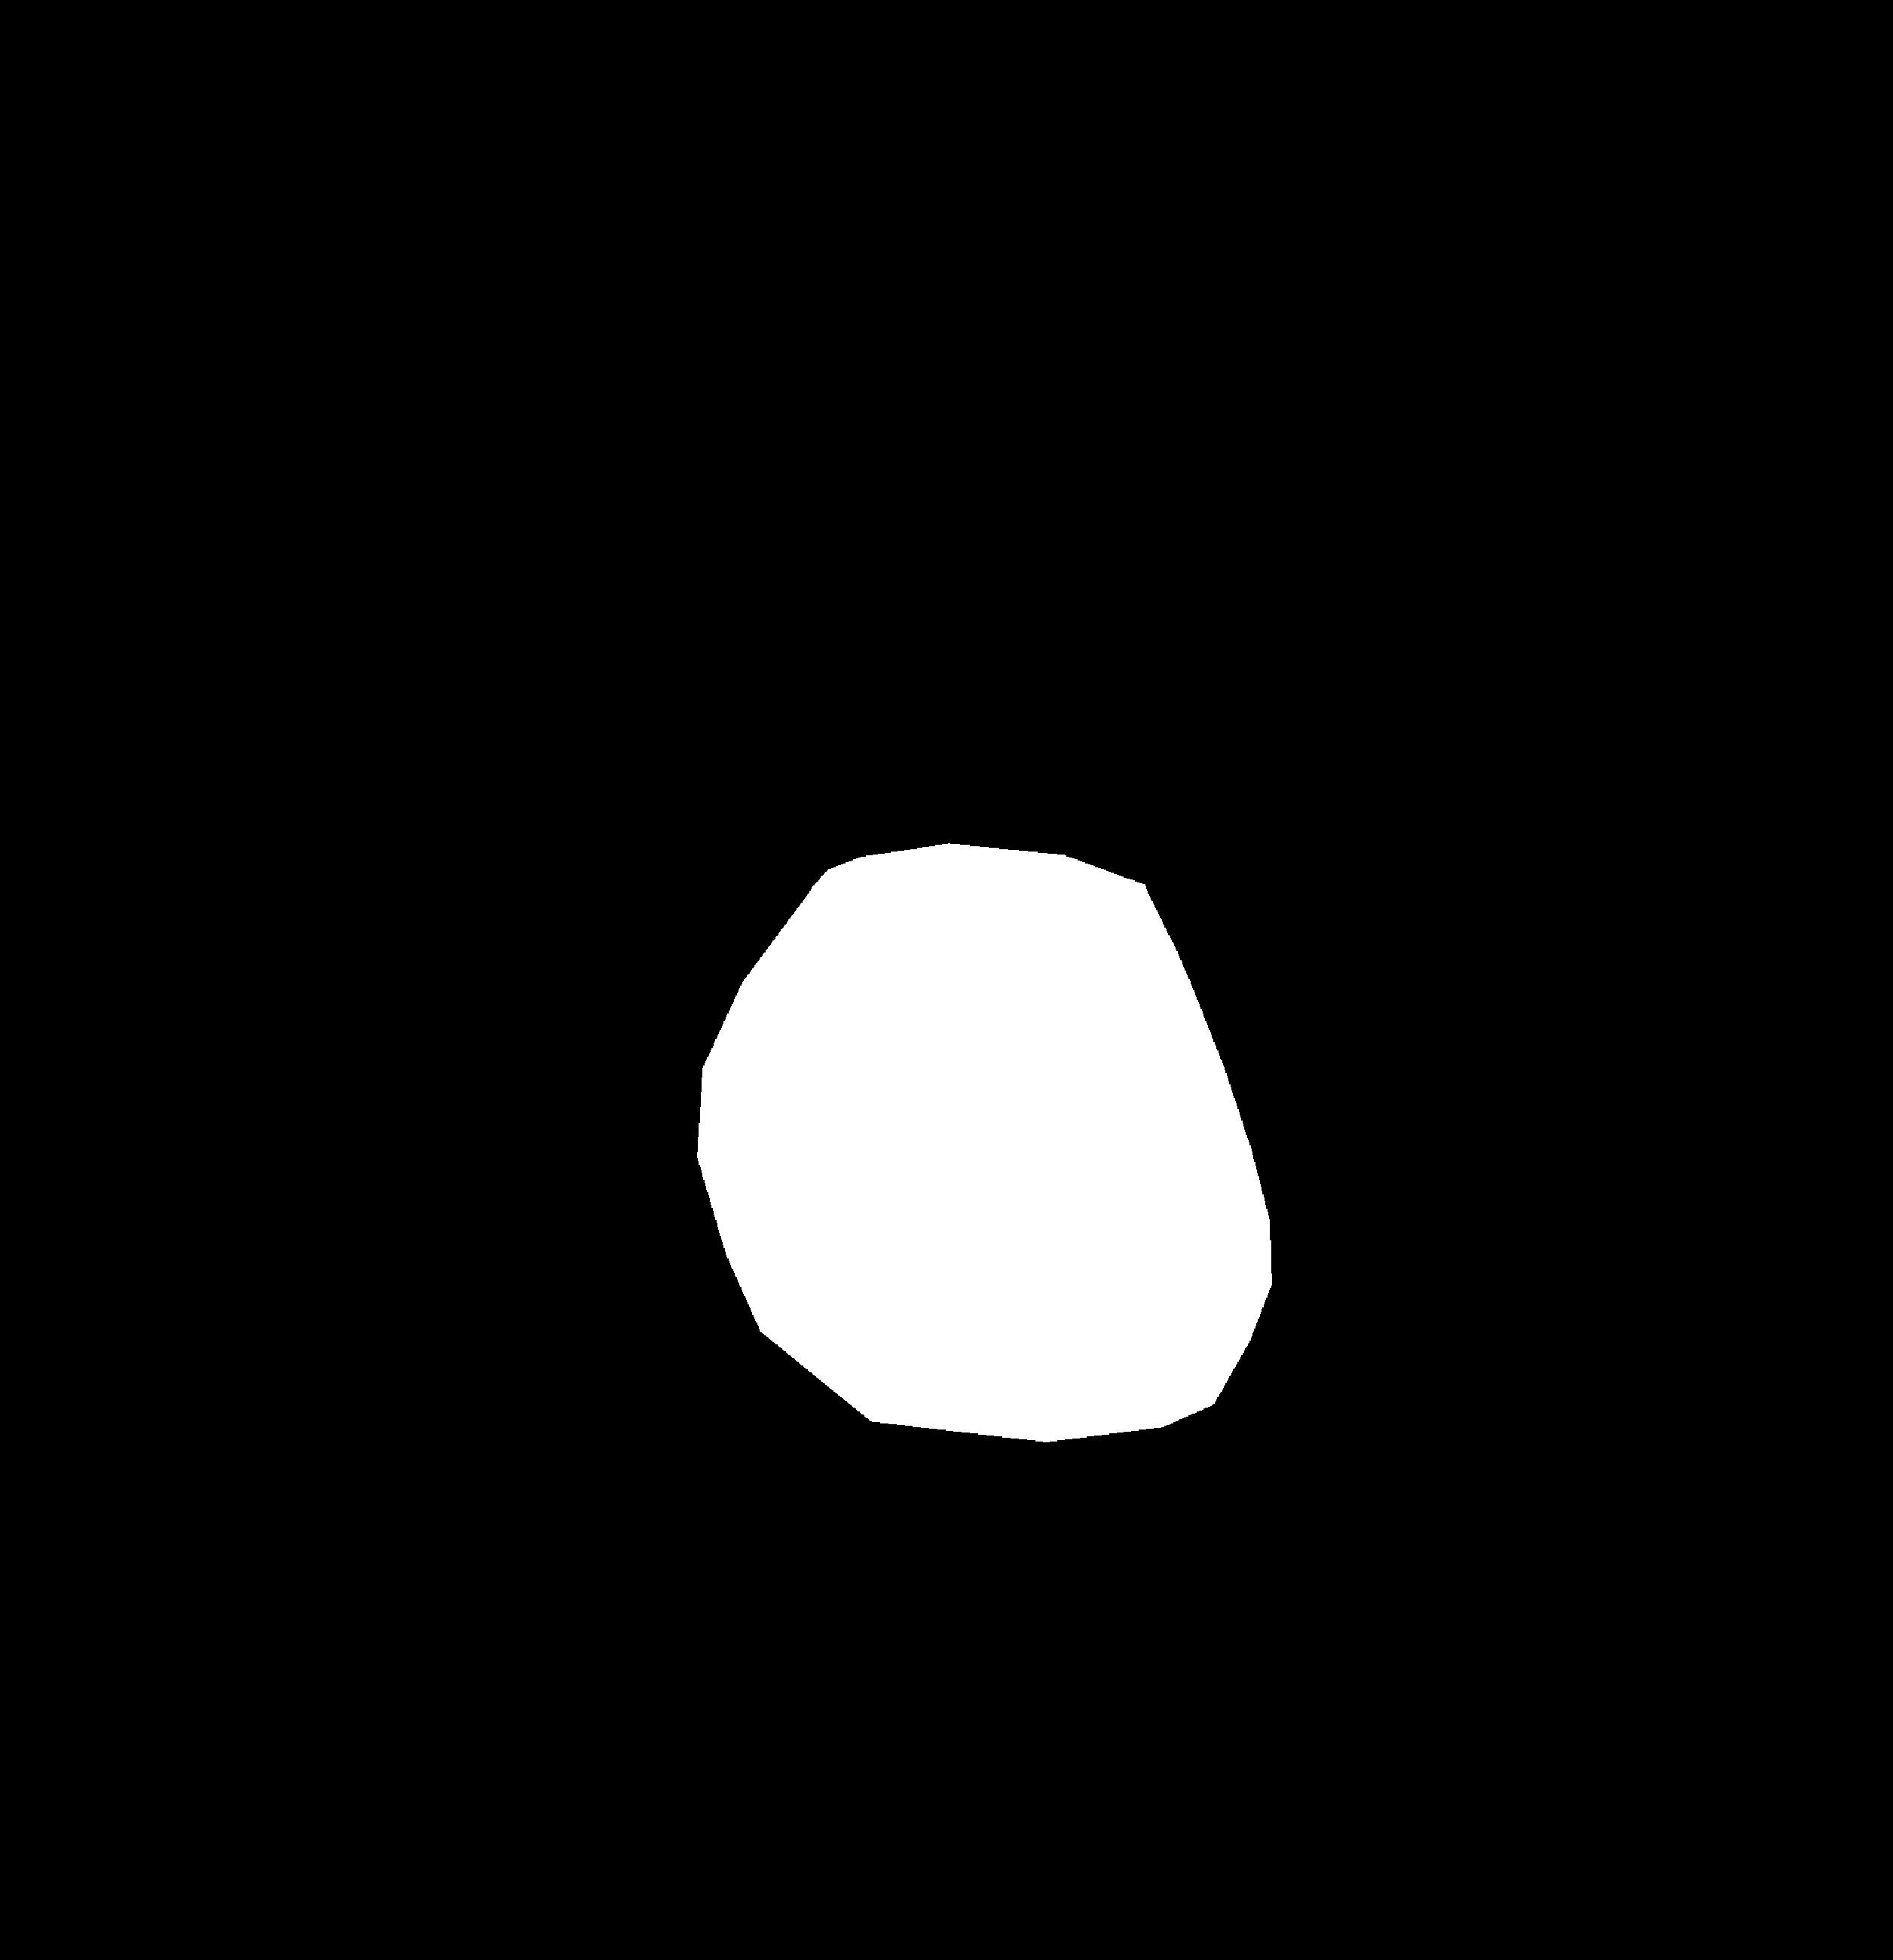heart: (698, 880, 1277, 1421)
left_lung: (192, 215, 929, 1647)
right_lung: (1050, 245, 1662, 1704)
